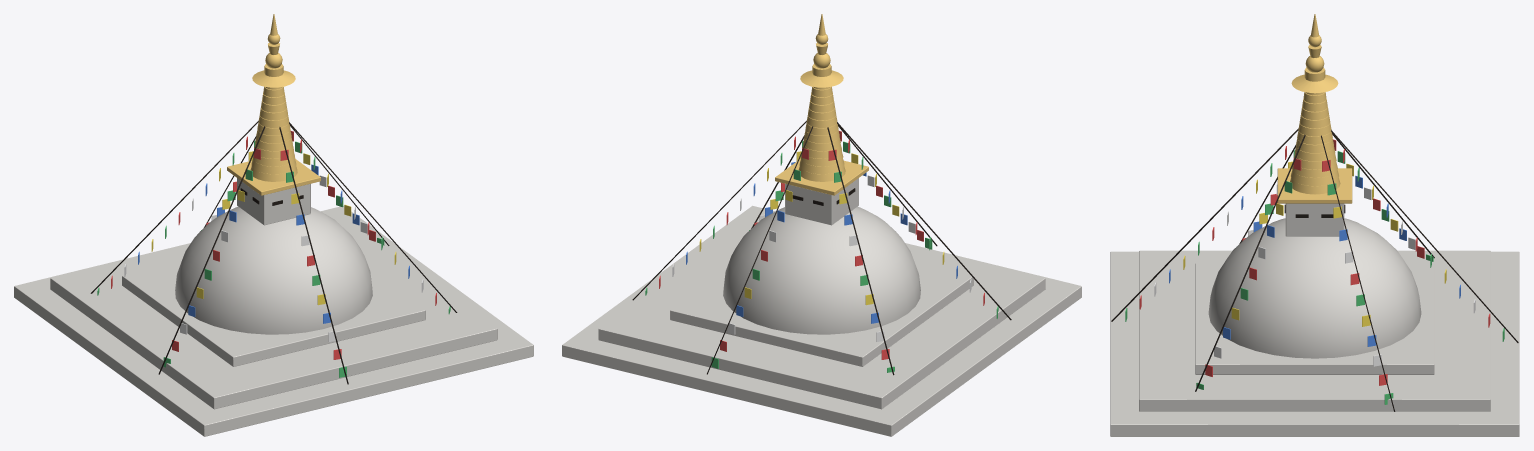
Rendered from stupa_kathesimbhu.glb.
3 views of the same model, side by side, from view 1: azimuth 30°, elevation 25°; view 2: azimuth 150°, elevation 25°; view 3: azimuth 270°, elevation 25° (orthographic). The views are drawn at different scales.
Visible parts, largest first — view 1: stupa_kathesimbhu; view 2: stupa_kathesimbhu; view 3: stupa_kathesimbhu.
Part boxes in pixels (x1,y1,x2,y2): stupa_kathesimbhu: (14, 14, 533, 436); stupa_kathesimbhu: (562, 14, 1081, 436); stupa_kathesimbhu: (1110, 14, 1519, 436).
Bounding box in the file's own units: 1 × 0.9066 × 1.
